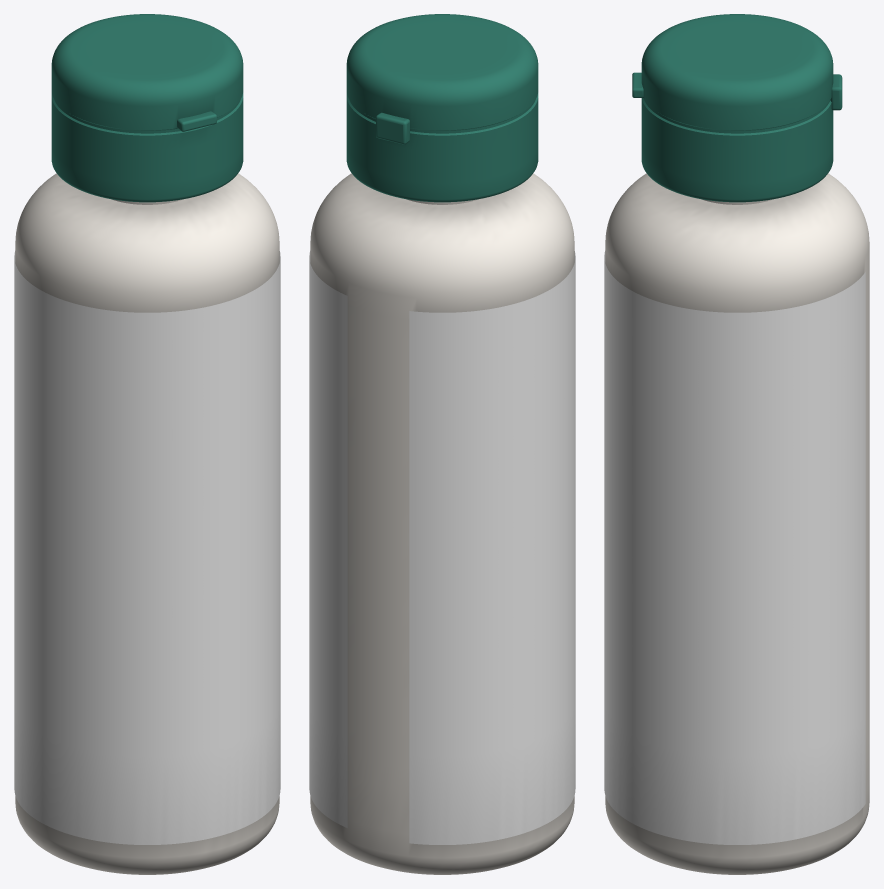
File: sh-nutrition.glb
3 renders of one model, left to right at view 1: azimuth 30°, elevation 25°; view 2: azimuth 150°, elevation 25°; view 3: azimuth 270°, elevation 25°, orthographic.
Parts seen in each view (by area): view 1: etiquette, corps, capsule, languette; view 2: etiquette, corps, capsule, charniere; view 3: etiquette, corps, capsule.
Boxes of the visible parts, x1,y1,x2,y2 form: etiquette: (14,251,280,844); corps: (15,173,279,874); capsule: (51,14,243,202); languette: (177,111,216,131); etiquette: (309,251,575,844); corps: (310,173,574,874); capsule: (346,14,538,202); charniere: (376,112,409,144); etiquette: (604,251,865,844); corps: (605,173,869,874); capsule: (641,14,833,202).
Bounding box in the file's own units: 0.5435 × 1.76 × 0.5418.
